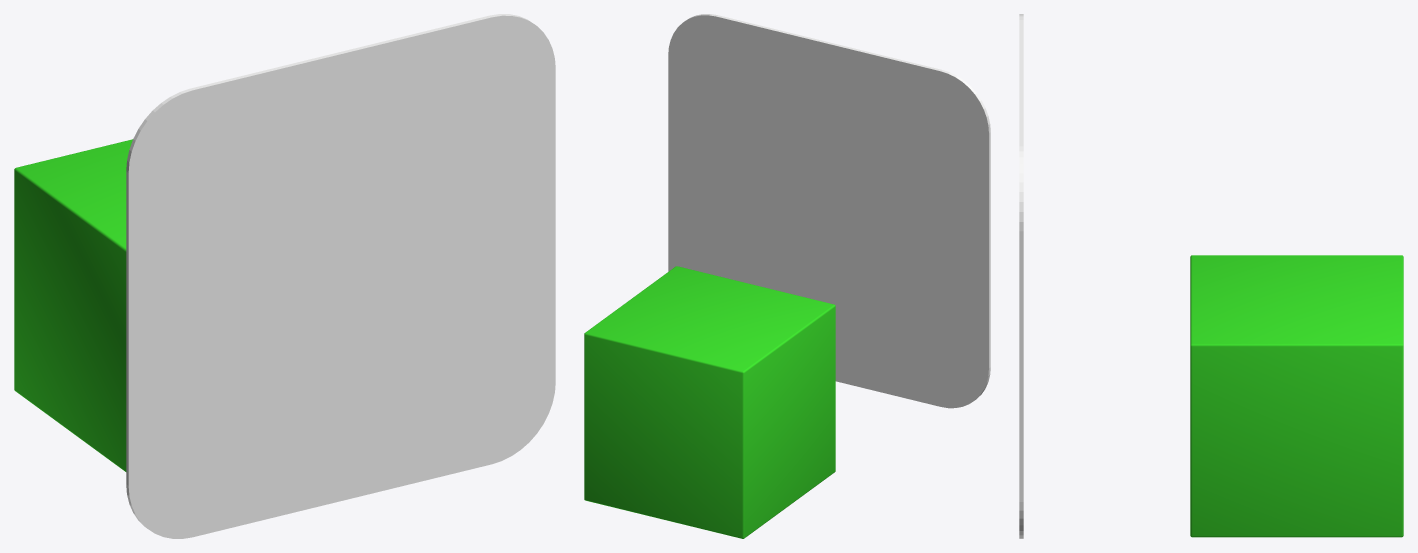
The model's file is RefractionTest.glb.
3 renders of one model, left to right at view 1: azimuth 30°, elevation 25°; view 2: azimuth 150°, elevation 25°; view 3: azimuth 270°, elevation 25°, orthographic. The views are drawn at different scales.
Visible parts, largest first — view 1: Cube.001, Cube; view 2: Cube.001, Cube; view 3: Cube, Cube.001.
Part boxes in pixels (left/top/right/bottom): Cube.001: left=126, top=14, right=555, bottom=538; Cube: left=14, top=139, right=132, bottom=471; Cube.001: left=668, top=14, right=990, bottom=408; Cube: left=584, top=266, right=835, bottom=538; Cube: left=1190, top=255, right=1403, bottom=537; Cube.001: left=1019, top=14, right=1023, bottom=538.
Size of the model in its own units: 2 by 2.12 by 1.8.
